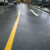others: (2, 9, 21, 49)
